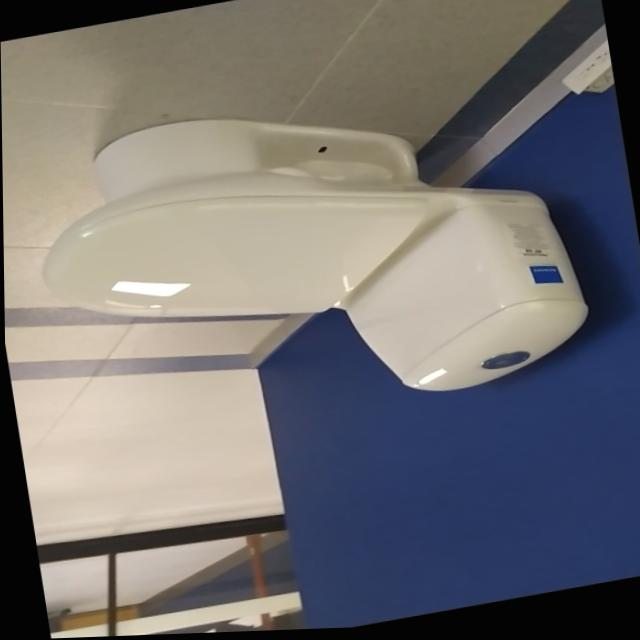toilet: (20, 59, 598, 461)
